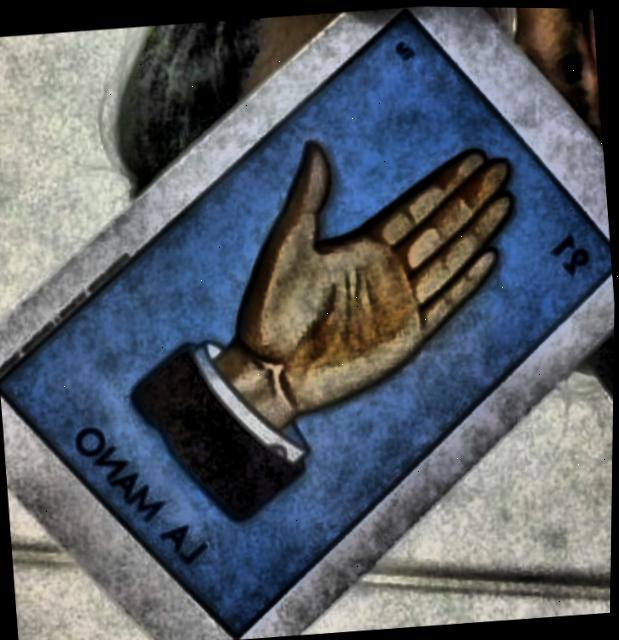La Mano: (0, 11, 612, 638)
